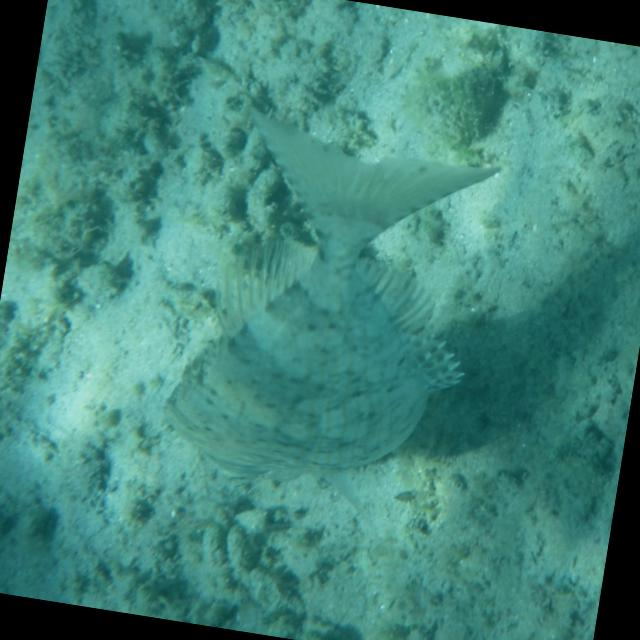Sokar Baligi: (134, 76, 528, 530)
